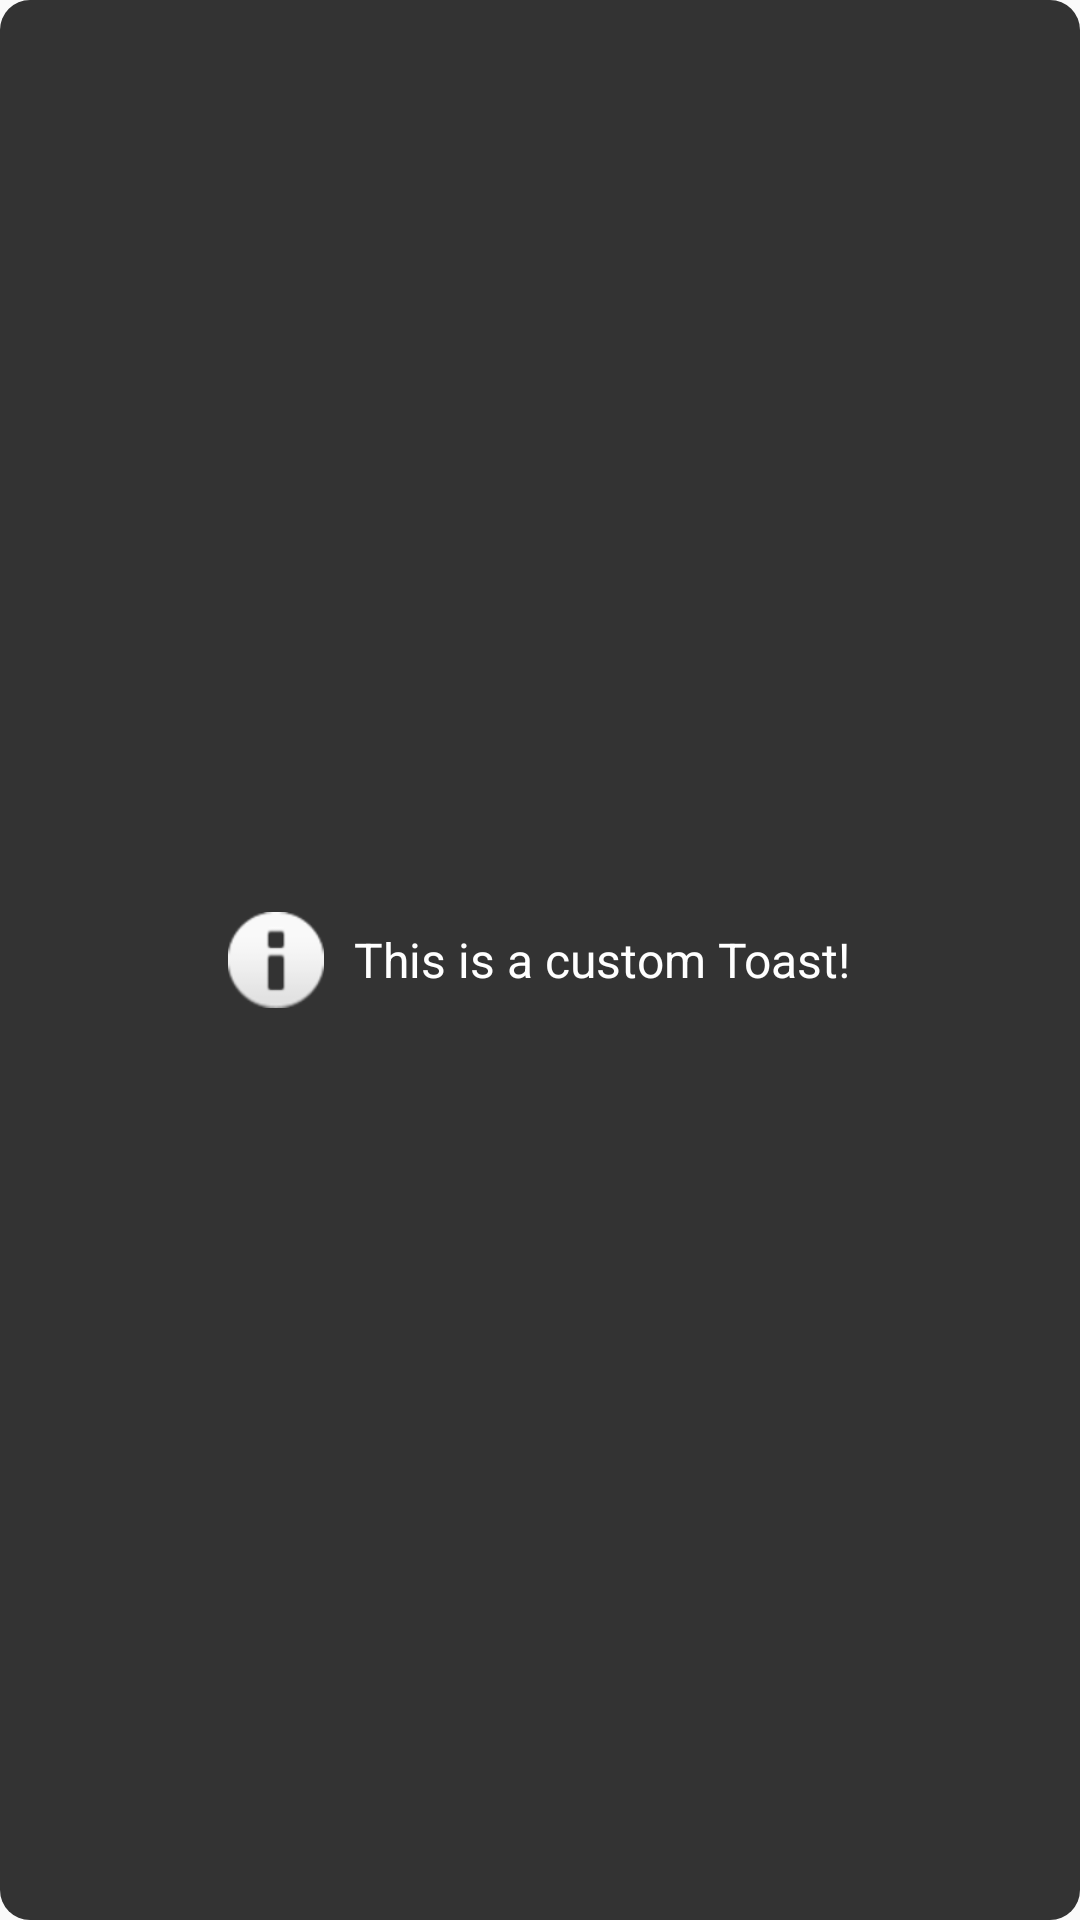

Named icons in this screenshot (1080 x 1920) and their bounding boxes, detection(x1, y1, x2, y2):
info: detection(228, 912, 324, 1008)
